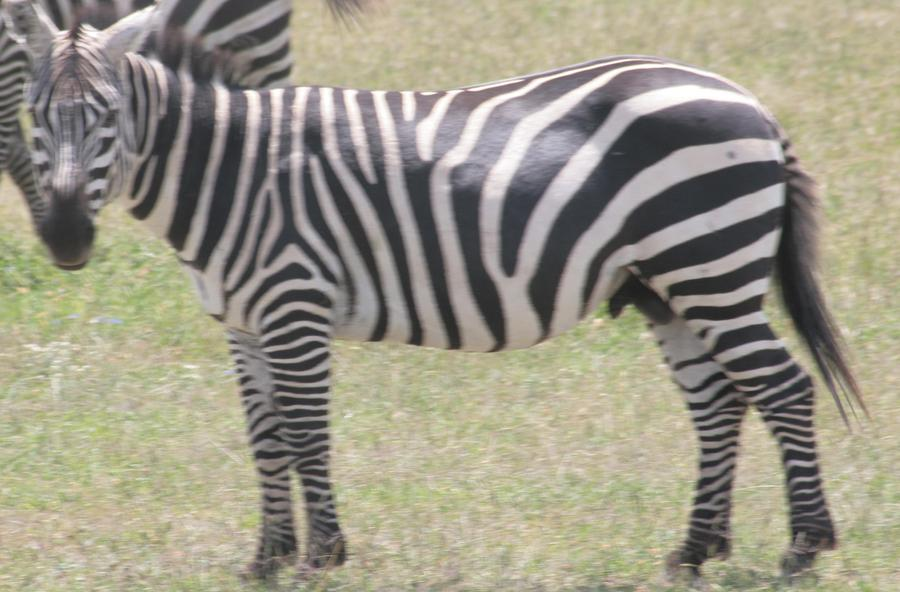zebra_plains: (206, 70, 777, 314)
